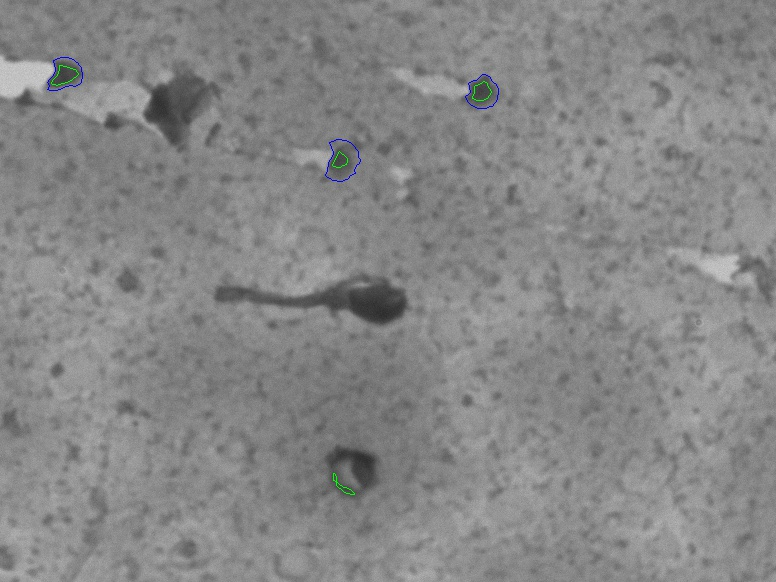Abnormal: (170, 238, 460, 368)
